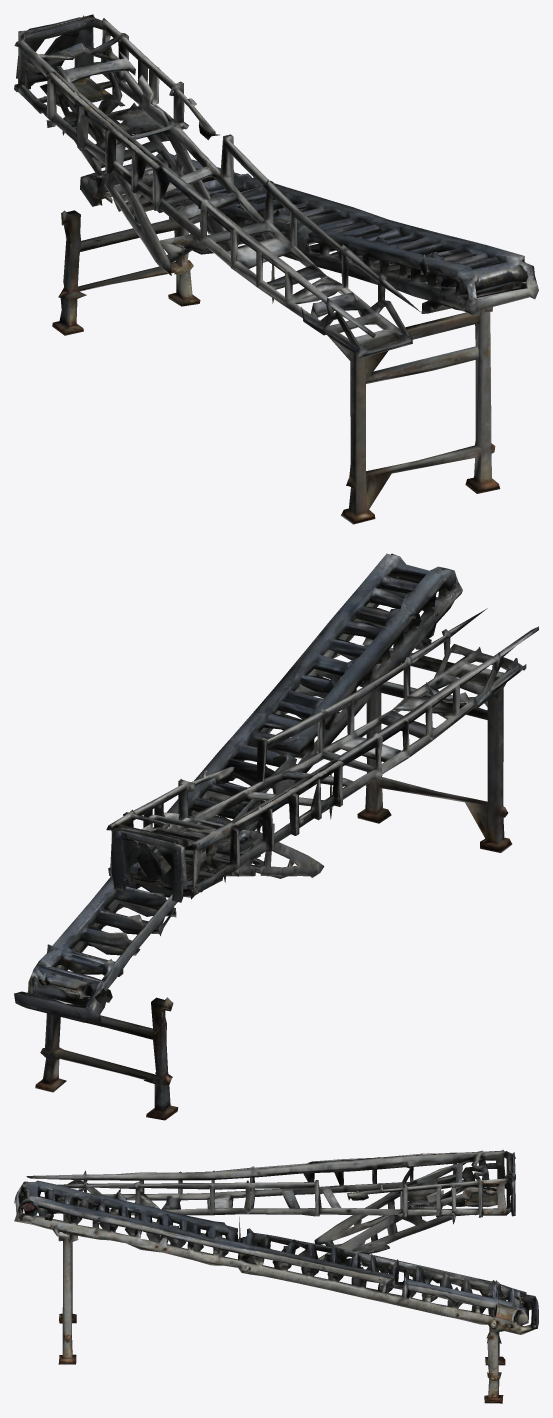
Rendered from qr_conveyor.glb.
The picture shows the model from 3 angles, top to bottom: view 1: azimuth 30°, elevation 25°; view 2: azimuth 150°, elevation 25°; view 3: azimuth 270°, elevation 25°; orthographic projection. The views are drawn at different scales.
Parts seen in each view (by area): view 1: tripo_node_04135655-3c31-4fbc-a553-da7f2d34afbc; view 2: tripo_node_04135655-3c31-4fbc-a553-da7f2d34afbc; view 3: tripo_node_04135655-3c31-4fbc-a553-da7f2d34afbc.
Boxes of the visible parts, x1=… form: tripo_node_04135655-3c31-4fbc-a553-da7f2d34afbc: x1=14, y1=14, x2=538, y2=524; tripo_node_04135655-3c31-4fbc-a553-da7f2d34afbc: x1=14, y1=553, x2=538, y2=1120; tripo_node_04135655-3c31-4fbc-a553-da7f2d34afbc: x1=14, y1=1150, x2=538, y2=1403.
Bounding box in the file's own units: 0.2587 × 0.4129 × 0.9803.
1 material, 1 textured.
